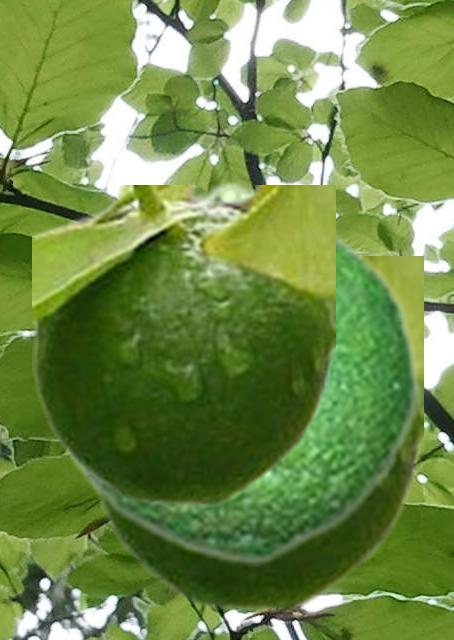dalandan: (49, 179, 420, 565), (89, 256, 422, 610), (32, 185, 334, 505)
